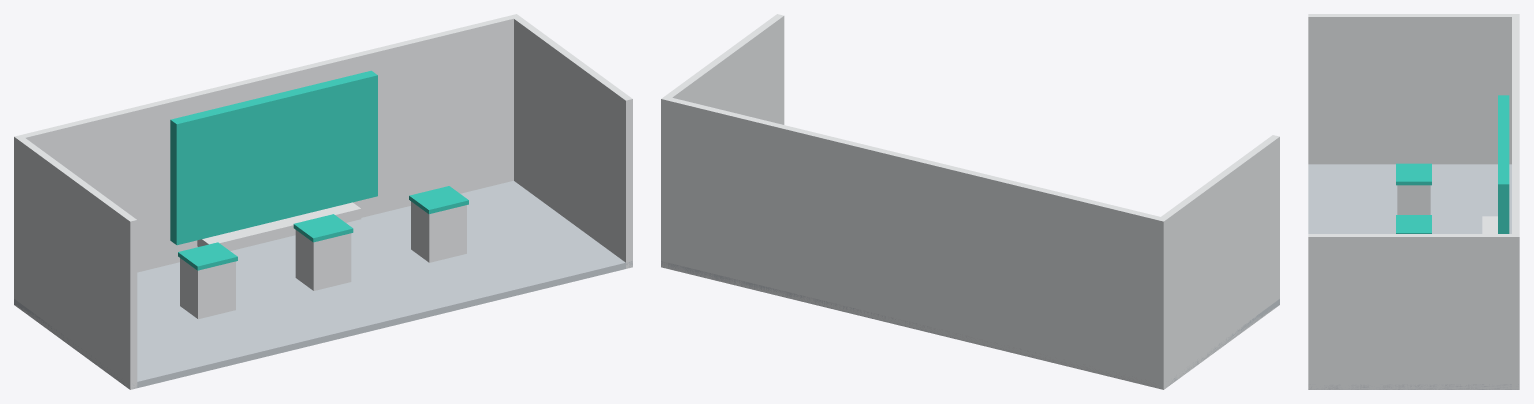
3 views of the same model, side by side, from view 1: azimuth 30°, elevation 25°; view 2: azimuth 150°, elevation 25°; view 3: azimuth 270°, elevation 25° (orthographic). The views are drawn at different scales.
Parts seen in each view (by area): view 1: Exhibition Booth Concept; view 2: Exhibition Booth Concept; view 3: Exhibition Booth Concept.
Boxes of the visible parts, box(x1,y1,x2,y2) form: Exhibition Booth Concept: box(14, 14, 632, 389); Exhibition Booth Concept: box(661, 14, 1279, 389); Exhibition Booth Concept: box(1308, 14, 1519, 389).
Size of the model in its own units: 10 by 3.2 by 4.
